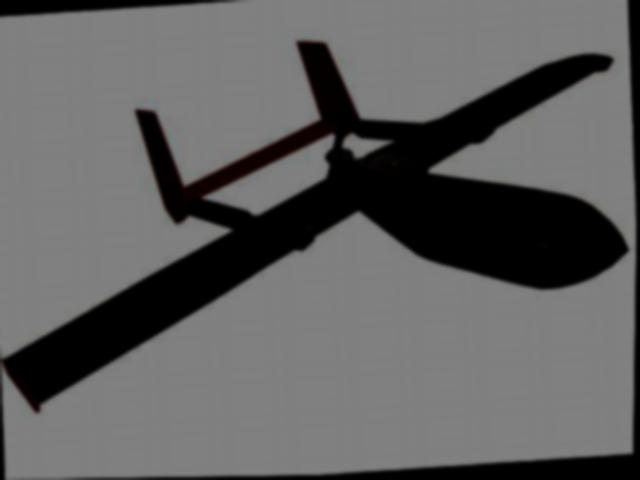uav: (0, 20, 640, 413)
